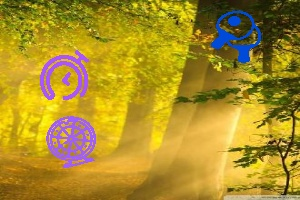乒乓球拍: (213, 11, 260, 62)
摩天轮: (45, 116, 97, 167)
时钟: (39, 50, 89, 101)
